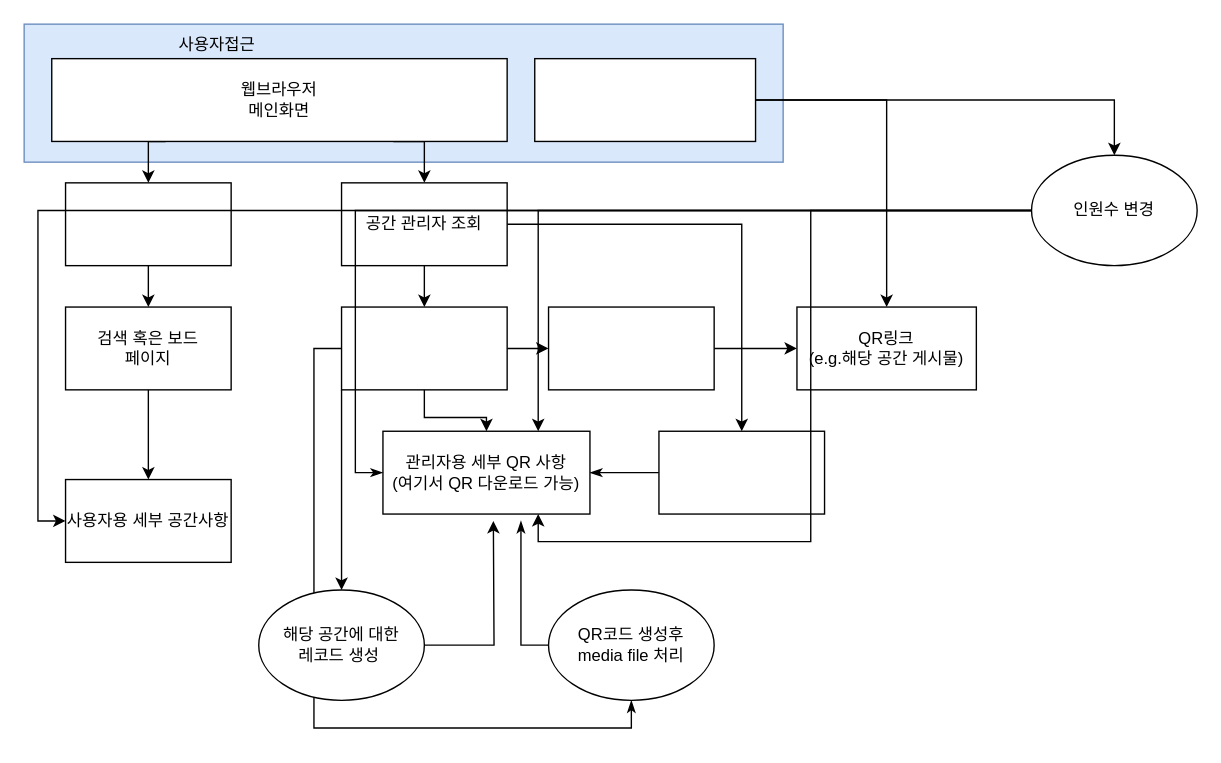
This 1221x763 diagram has some shape labels left out. The shapes that lost their labels are listed below. From the top down, each one's centre as x and y in pixels, then its label:
pixel 644 99: 외부 애플리케이션을 통한 QR접근
pixel 147 223: 공간 혼잡도 조회
pixel 423 348: 새로운 QR 생성
pixel 630 348: QR 링크(e.g. 게시글) 생성
pixel 741 472: 내 공간 QR 조회
